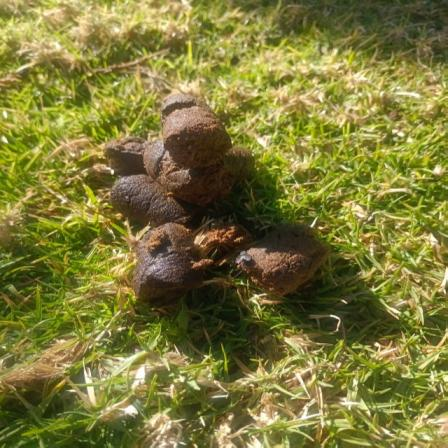dog-poop: (97, 88, 341, 302)
